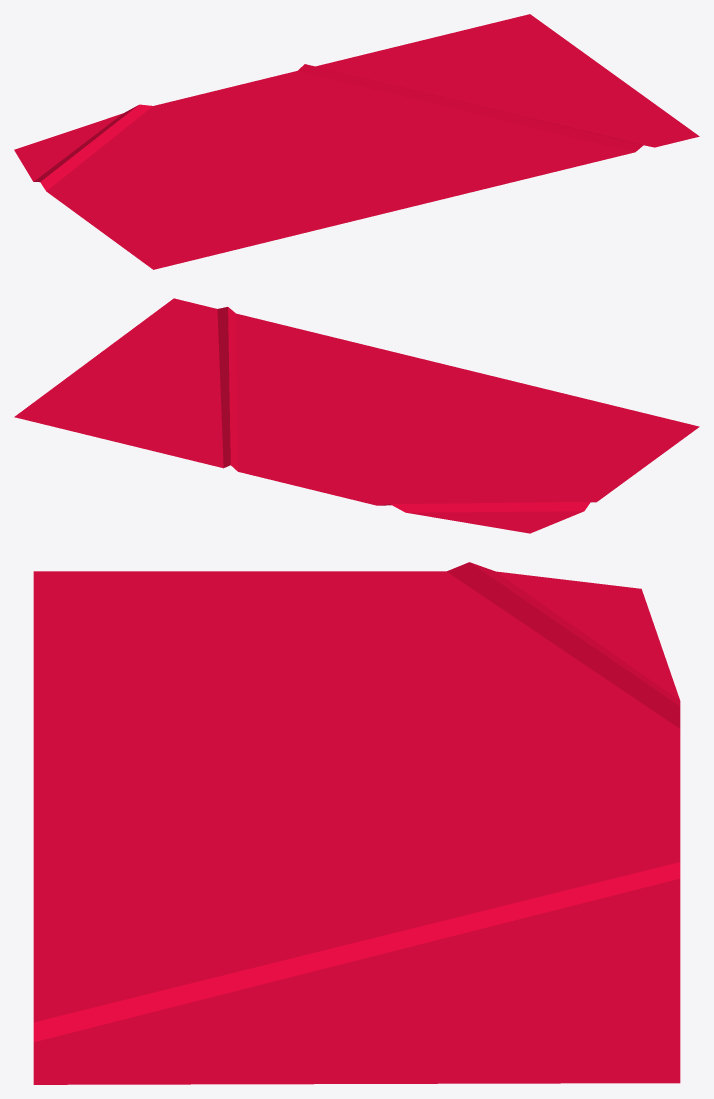
File: carpet 2.fbx
3 views of the same model, one above another, from view 1: azimuth 30°, elevation 25°; view 2: azimuth 150°, elevation 25°; view 3: azimuth 270°, elevation 25° (orthographic). The views are drawn at different scales.
Visible parts, largest first — view 1: covor_cutat; view 2: covor_cutat; view 3: covor_cutat.
Part boxes in pixels (<box>): covor_cutat: <box>14,14,699,269</box>; covor_cutat: <box>14,298,699,533</box>; covor_cutat: <box>33,562,680,1084</box>.
Bounding box in the file's own units: 955 × 8.35 × 508.
